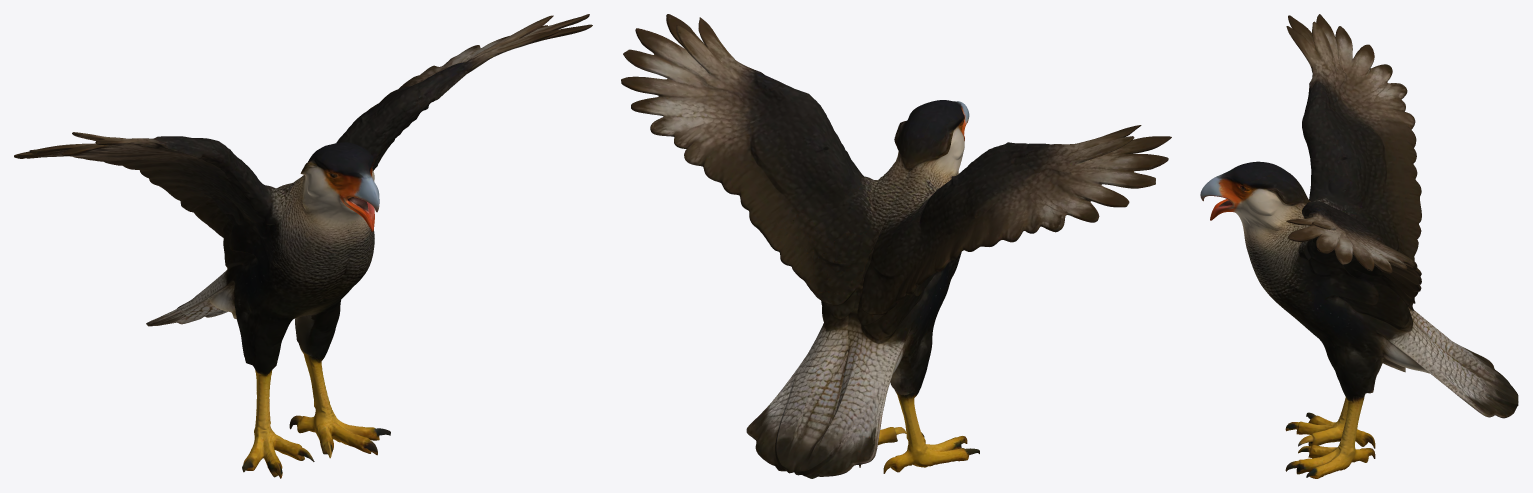
Rendered from traro.glb.
3 views of the same model, side by side, from view 1: azimuth 30°, elevation 25°; view 2: azimuth 150°, elevation 25°; view 3: azimuth 270°, elevation 25° (orthographic). The views are drawn at different scales.
Visible parts, largest first — view 1: material; view 2: material; view 3: material.
Boxes of the visible parts, bbox=[...] form: material: bbox=[14, 14, 592, 478]; material: bbox=[621, 14, 1171, 478]; material: bbox=[1200, 14, 1518, 478].
Size of the model in its own units: 1.01 by 0.664 by 0.5774.
1 material, 1 textured.
